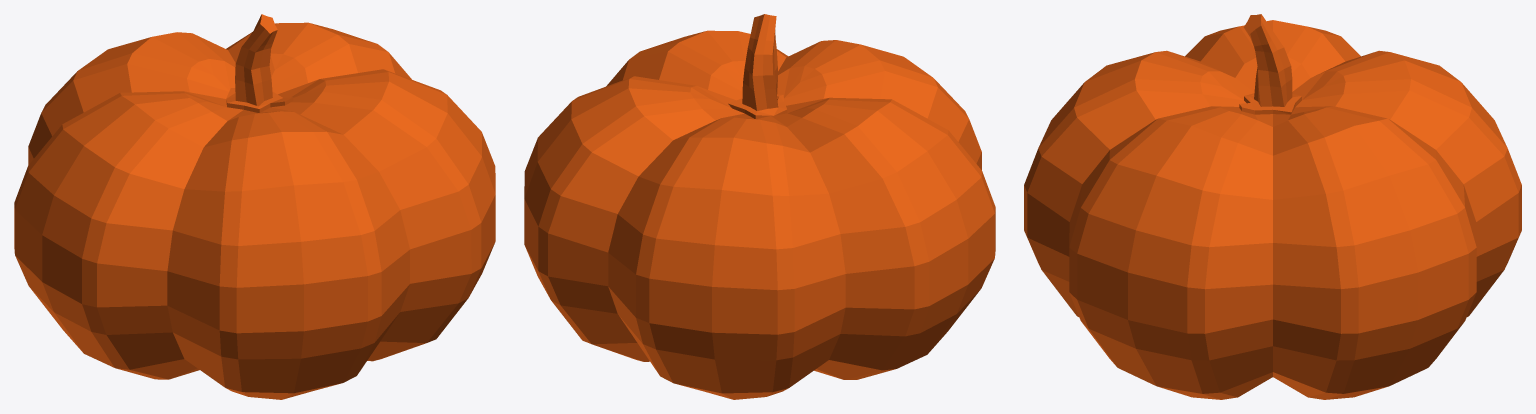
The model's file is pumpkinpART.fbx.
3 views of the same model, side by side, from view 1: azimuth 30°, elevation 25°; view 2: azimuth 150°, elevation 25°; view 3: azimuth 270°, elevation 25° (orthographic). The views are drawn at different scales.
Visible parts, largest first — view 1: pumpkin; view 2: pumpkin; view 3: pumpkin.
Part boxes in pixels (left/top/right/bottom): pumpkin: left=14, top=14, right=495, bottom=399; pumpkin: left=524, top=14, right=995, bottom=399; pumpkin: left=1024, top=14, right=1521, bottom=399.
Size of the model in its own units: 210 by 166 by 216.
